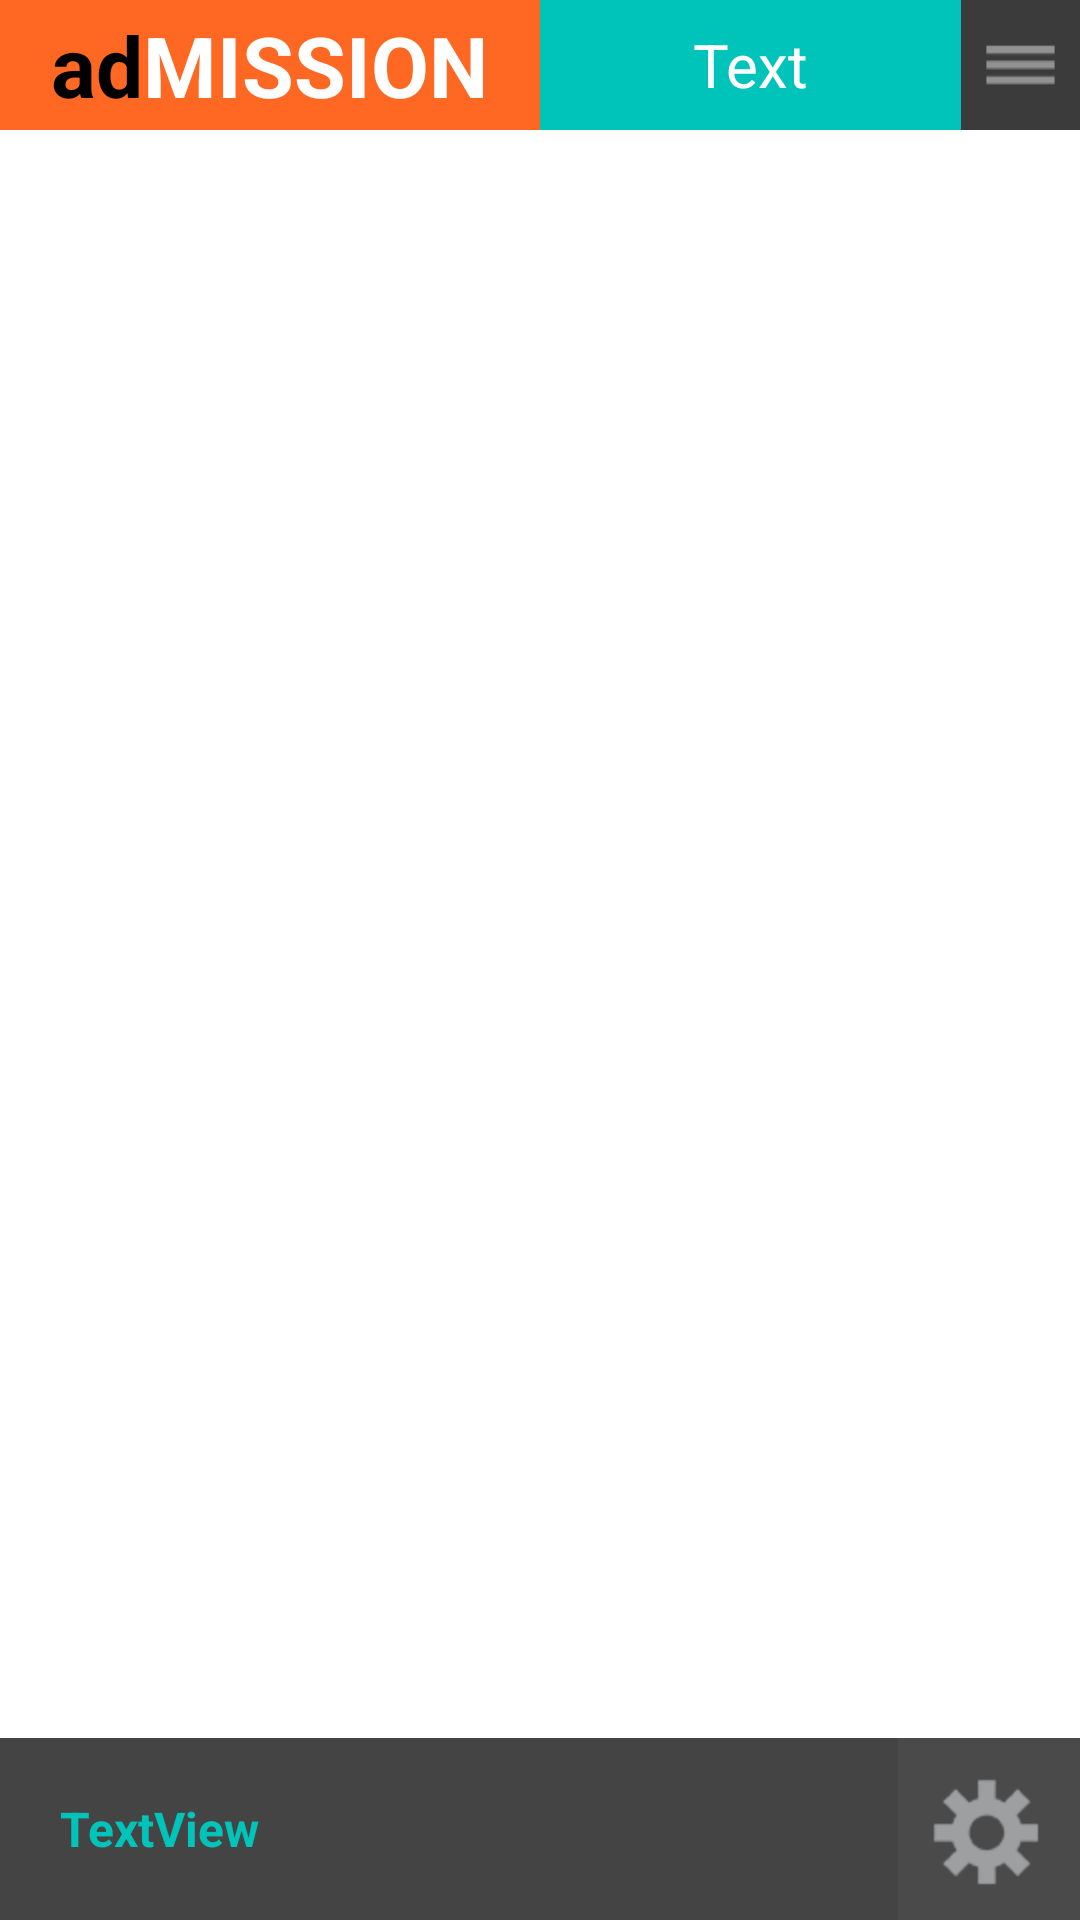

Named icons in this screenshot (1080x1920) and their centers, (x=x, y=y):
menu: (x=1020, y=65)
